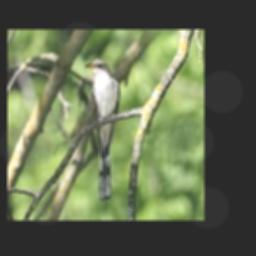Cuckoo: (84, 59, 119, 201)
